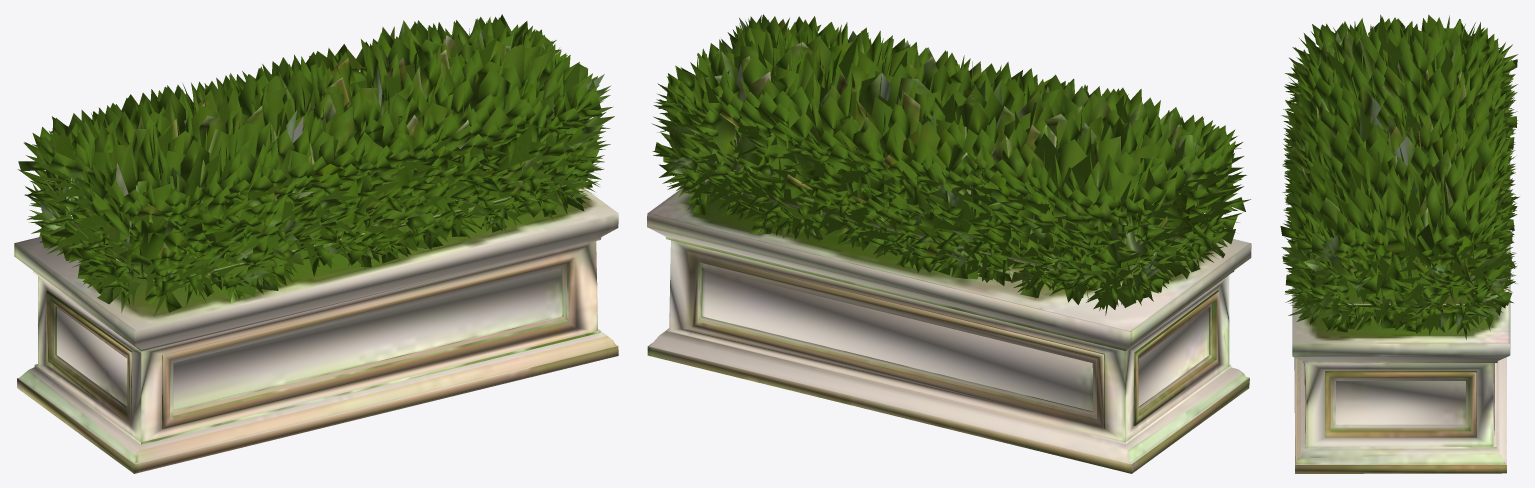
File: hedge.glb
The picture shows the model from 3 angles, left to right: view 1: azimuth 30°, elevation 25°; view 2: azimuth 150°, elevation 25°; view 3: azimuth 270°, elevation 25°; orthographic projection. The views are drawn at different scales.
Bounding box in the file's own units: 0.9536 × 0.5088 × 0.4204.
Materials: 1 (1 with a texture image).
